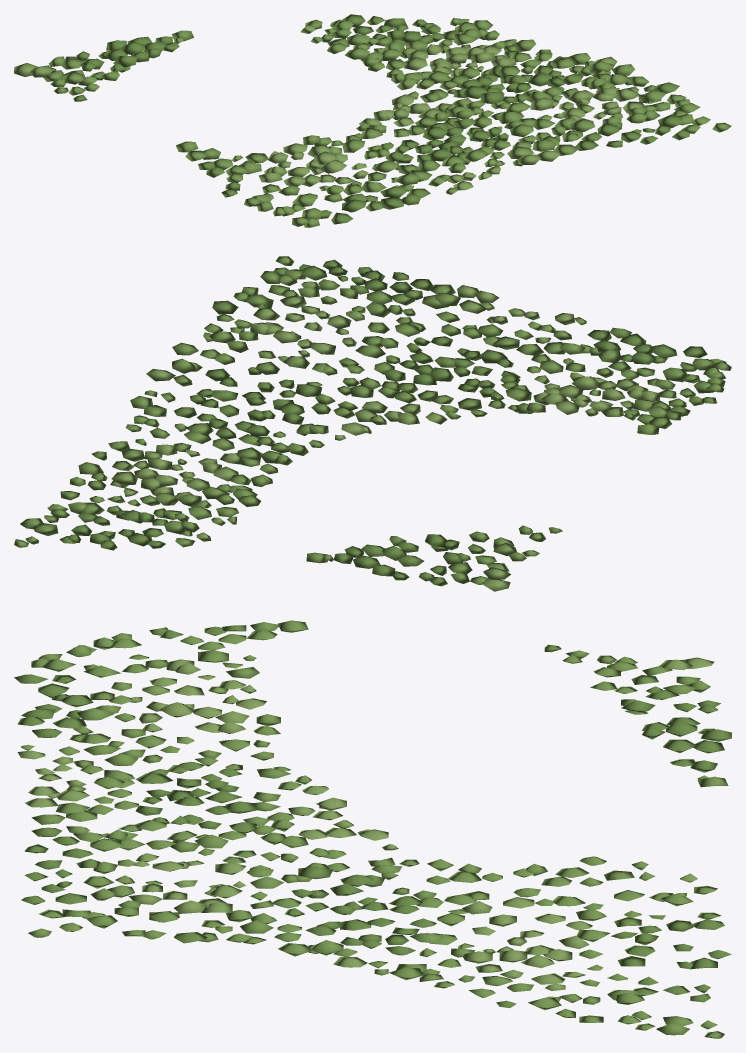
The model's file is canopy-1-2--1.glb.
3 views of the same model, one above another, from view 1: azimuth 30°, elevation 25°; view 2: azimuth 150°, elevation 25°; view 3: azimuth 270°, elevation 25° (orthographic). The views are drawn at different scales.
Bounding box in the file's own units: 520 × 110 × 518.
Materials: 1 (1 with a texture image).
